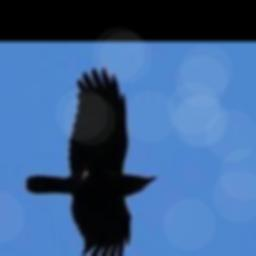Crow: (26, 68, 156, 256)
